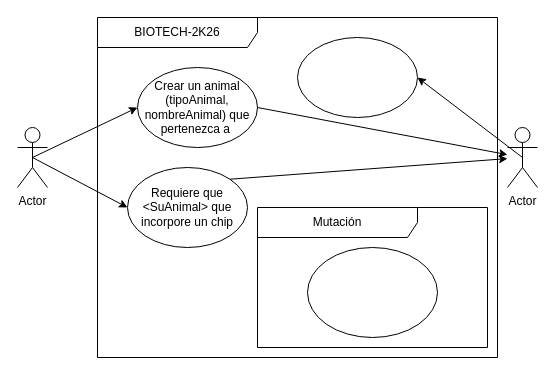
Some shapes in this 555 by 375 pixel diagram are drawn without their labels. The centre of each missing label's shape, as x and y in pixels:
crear paquetes que demarquen...: point 357,77
Experimentar con un "TanquedeMutacion"...: point 372,292
